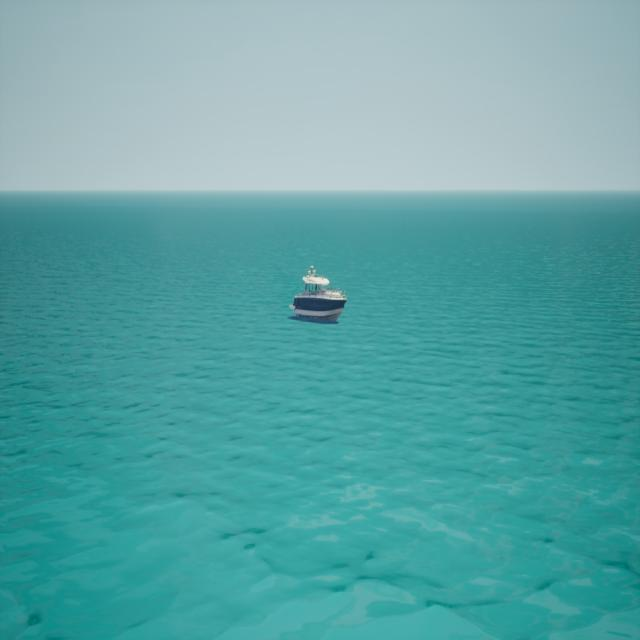ship: (289, 263, 349, 322)
